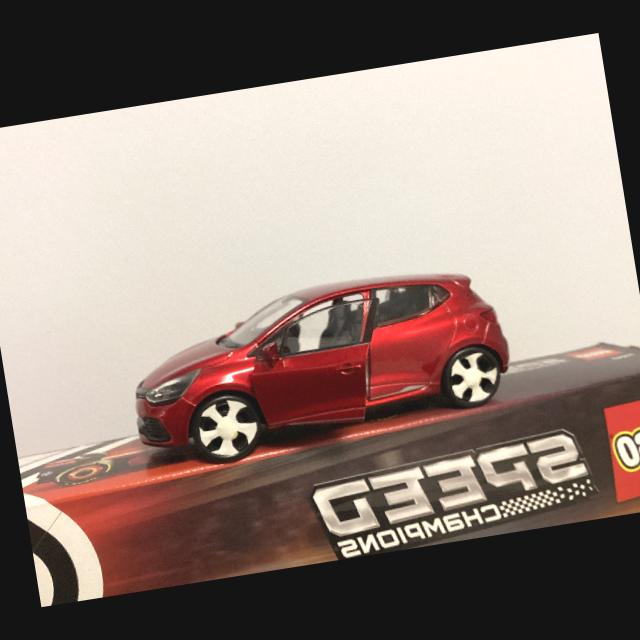Yanlis_Jant: (195, 394, 262, 460), (446, 352, 499, 404)
